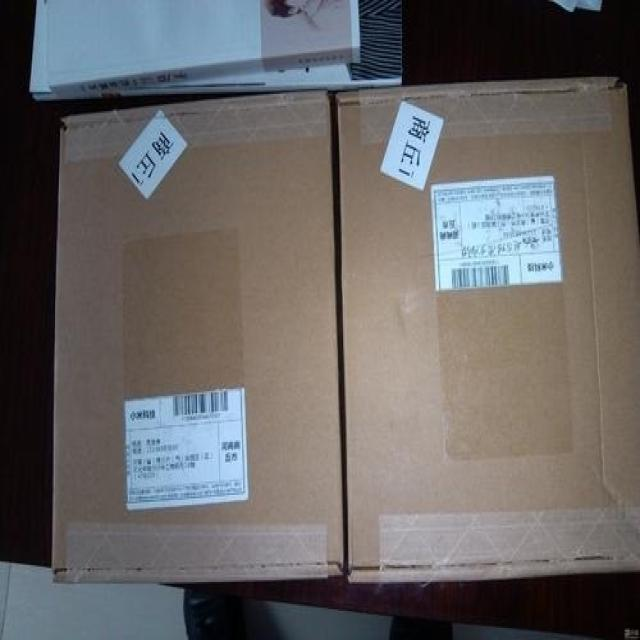box: (336, 77, 639, 582), (53, 90, 344, 583)
